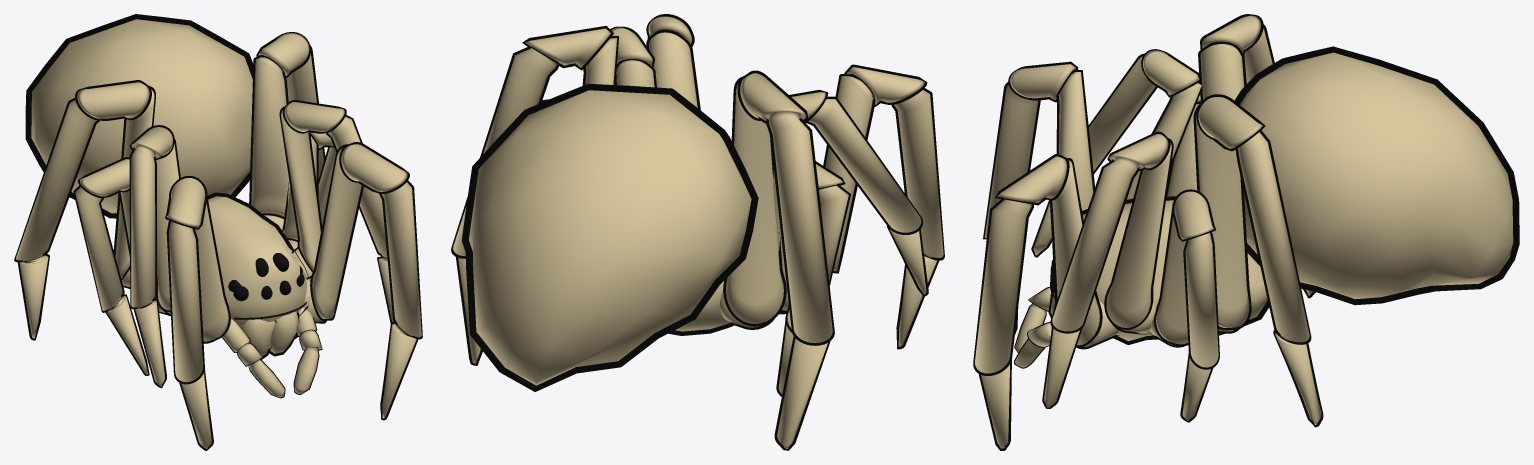
The model's file is car.glb.
3 views of the same model, side by side, from view 1: azimuth 30°, elevation 25°; view 2: azimuth 150°, elevation 25°; view 3: azimuth 270°, elevation 25° (orthographic). The views are drawn at different scales.
Parts seen in each view (by area): view 1: Icosphere, Cylinder, Cylinder.006, Cylinder.001, Cylinder.002, Cylinder.004, Cylinder.003, Icosphere.001, Cylinder.005, Cylinder.007, Cylinder.009, Cylinder.008 (+2 smaller); view 2: Icosphere, Cylinder.006, Cylinder.001, Cylinder.004, Cylinder.002, Cylinder.005, Cylinder, Cylinder.003, Icosphere.001; view 3: Icosphere, Cylinder.004, Cylinder.003, Cylinder, Cylinder.007, Cylinder.001, Cylinder.002, Cylinder.006, Icosphere.001, Cylinder.005, Cylinder.009, Cylinder.008.
Boxes of the visible parts, bbox=[...] form: Icosphere: bbox=[25, 14, 253, 218]; Cylinder: bbox=[303, 142, 422, 420]; Cylinder.006: bbox=[14, 80, 155, 340]; Cylinder.001: bbox=[165, 176, 231, 450]; Cylinder.002: bbox=[129, 125, 180, 388]; Cylinder.004: bbox=[249, 32, 325, 232]; Cylinder.003: bbox=[279, 100, 393, 323]; Icosphere.001: bbox=[207, 192, 309, 326]; Cylinder.005: bbox=[73, 157, 169, 375]; Cylinder.007: bbox=[282, 132, 336, 338]; Cylinder.009: bbox=[222, 319, 285, 398]; Cylinder.008: bbox=[293, 307, 322, 394]; Icosphere: bbox=[461, 83, 758, 391]; Cylinder.006: bbox=[719, 70, 834, 450]; Cylinder.001: bbox=[823, 64, 944, 349]; Cylinder.004: bbox=[451, 25, 618, 365]; Cylinder.002: bbox=[789, 89, 928, 296]; Cylinder.005: bbox=[772, 160, 850, 396]; Cylinder: bbox=[646, 14, 700, 110]; Cylinder.003: bbox=[610, 26, 656, 87]; Icosphere.001: bbox=[668, 281, 733, 335]; Icosphere: bbox=[1234, 46, 1519, 305]; Cylinder.004: bbox=[1193, 94, 1323, 427]; Cylinder.003: bbox=[1042, 131, 1173, 408]; Cylinder: bbox=[973, 154, 1119, 450]; Cylinder.007: bbox=[1150, 189, 1219, 422]; Cylinder.001: bbox=[983, 61, 1094, 334]; Cylinder.002: bbox=[1031, 49, 1202, 257]; Cylinder.006: bbox=[1198, 14, 1315, 298]; Icosphere.001: bbox=[1050, 196, 1269, 344]; Cylinder.005: bbox=[1166, 94, 1200, 196]; Cylinder.009: bbox=[1014, 286, 1050, 352]; Cylinder.008: bbox=[1014, 322, 1051, 368].
Size of the model in its own units: 7.46 by 6.99 by 10.03.
